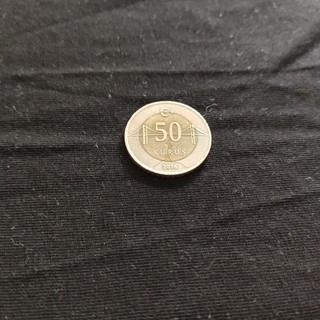50KURUS: (122, 98, 213, 179)
